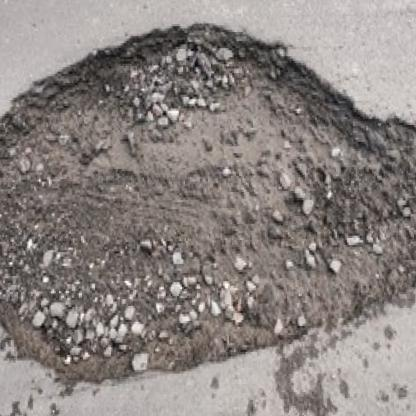pothole: (0, 21, 416, 389)
